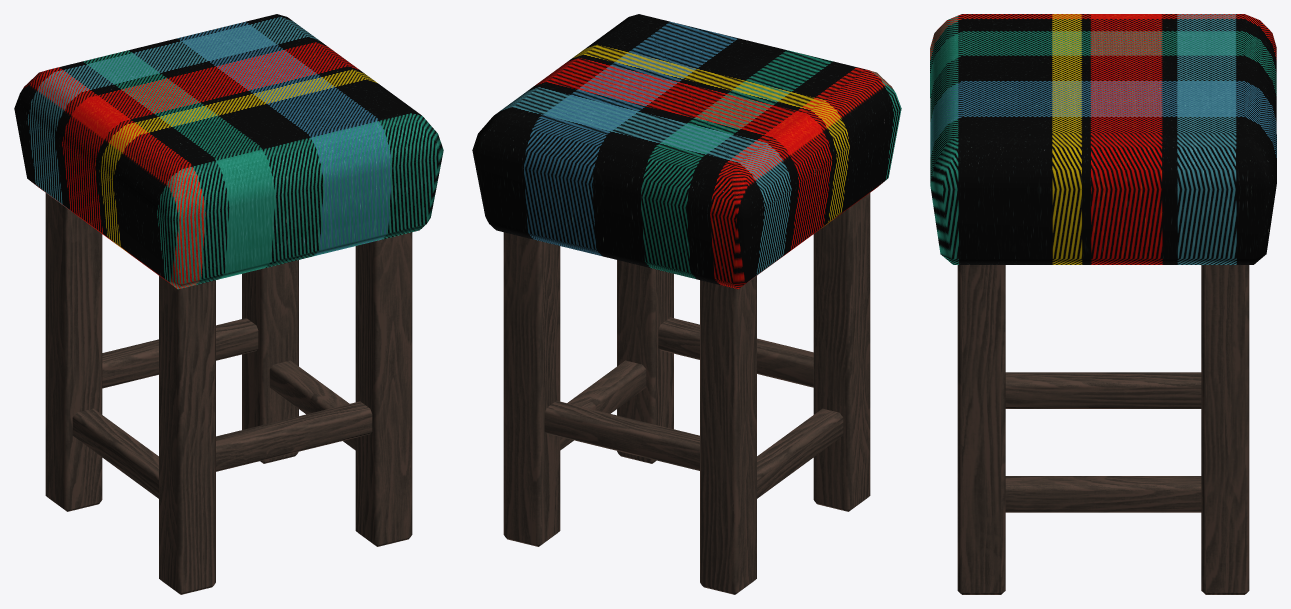
Rendered from chair_029.fbx.
The picture shows the model from 3 angles, left to right: view 1: azimuth 30°, elevation 25°; view 2: azimuth 150°, elevation 25°; view 3: azimuth 270°, elevation 25°; orthographic projection. The views are drawn at different scales.
Visible parts, largest first — view 1: chair_029; view 2: chair_029; view 3: chair_029.
Boxes of the visible parts, <box> form: chair_029: <box>14,14,443,594</box>; chair_029: <box>472,14,901,594</box>; chair_029: <box>930,14,1276,594</box>.
Size of the model in its own units: 48.2 by 48.2 by 70.81.
